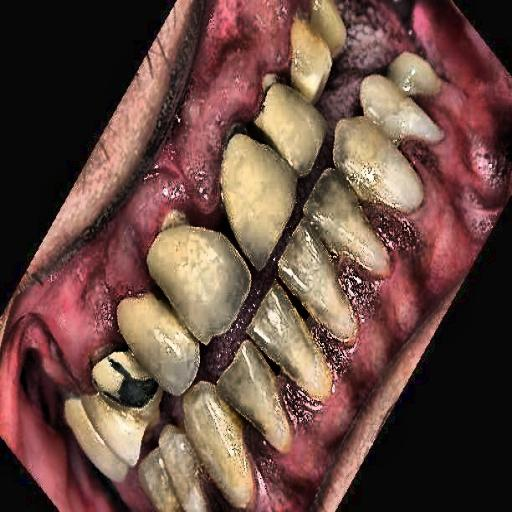Calculus: (74, 296, 178, 440), (217, 58, 335, 176), (281, 0, 347, 63), (157, 201, 203, 262)
